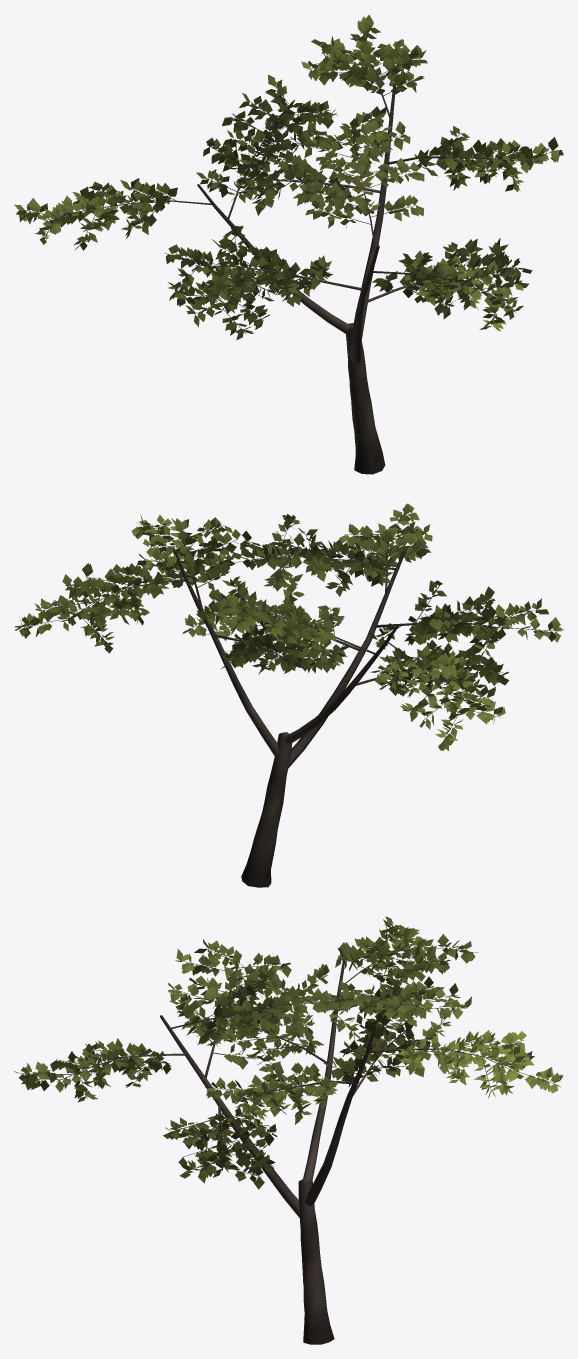
File: acacia-b.lod0.glb
3 views of the same model, one above another, from view 1: azimuth 30°, elevation 25°; view 2: azimuth 150°, elevation 25°; view 3: azimuth 270°, elevation 25° (orthographic). The views are drawn at different scales.
Bounding box in the file's own units: 9.29 × 7.22 × 10.01.
